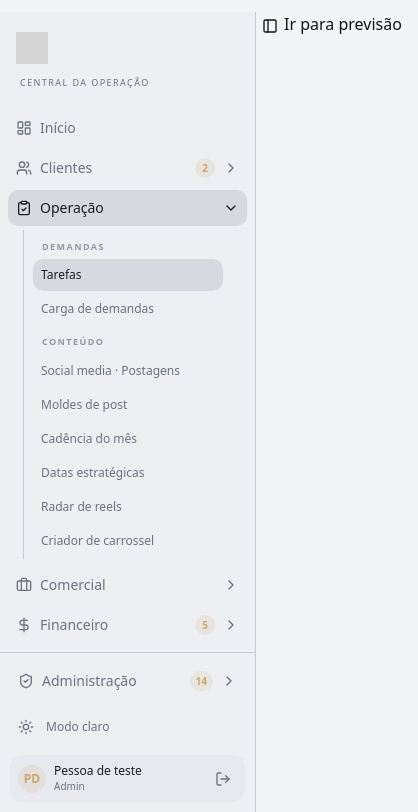
Test: Sidebar compacto › mantém somente uma área aberta e acompanha a navegação para a rota mais específica
The width and height of the screenshot is (418, 812).
Click the button "Clientes 2" at (128, 168), box [8,150,247,186]
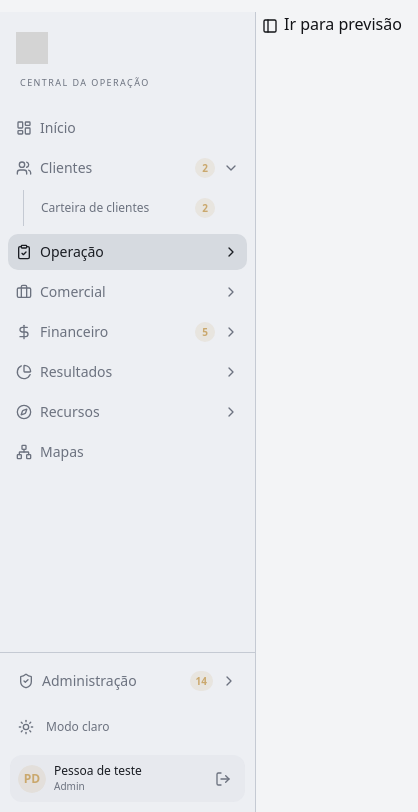
Expected: the button "Clientes 2" is expanded, [8,150,247,186]
Expected: the button "Operação" is collapsed, [8,234,247,270]
Click the link with test id "change-route" at (343, 24), box [284,13,402,35]
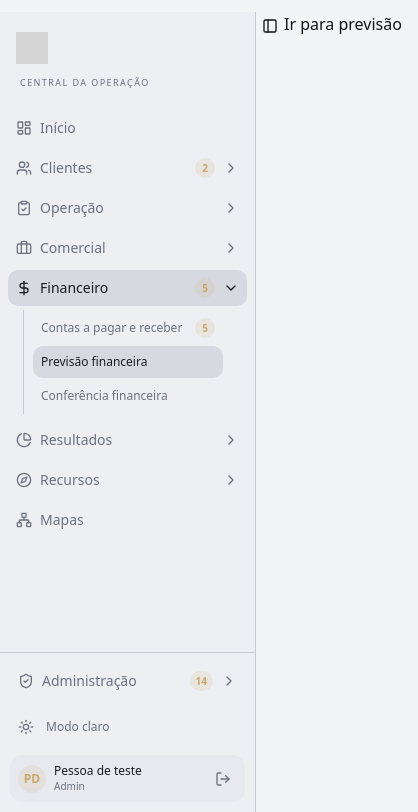
Expected: the button "Clientes 2" is collapsed, [8,150,247,186]
Expected: the button "Financeiro 5" is expanded, [8,270,247,306]
